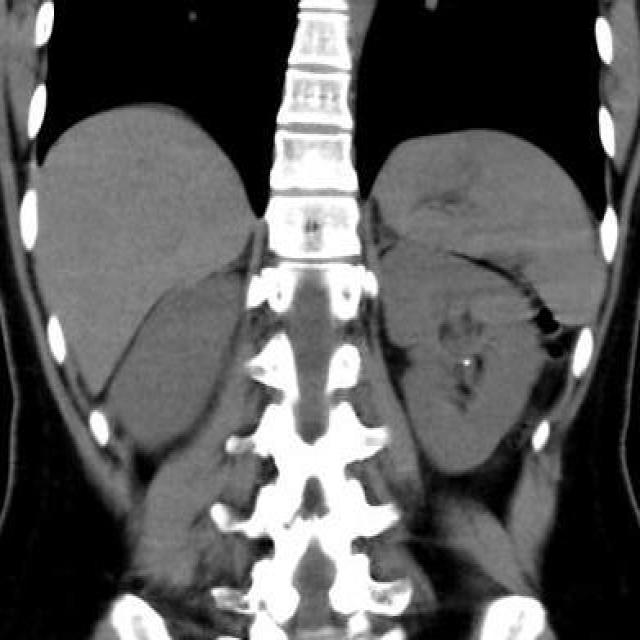Tas_Var: (459, 355, 471, 369)
